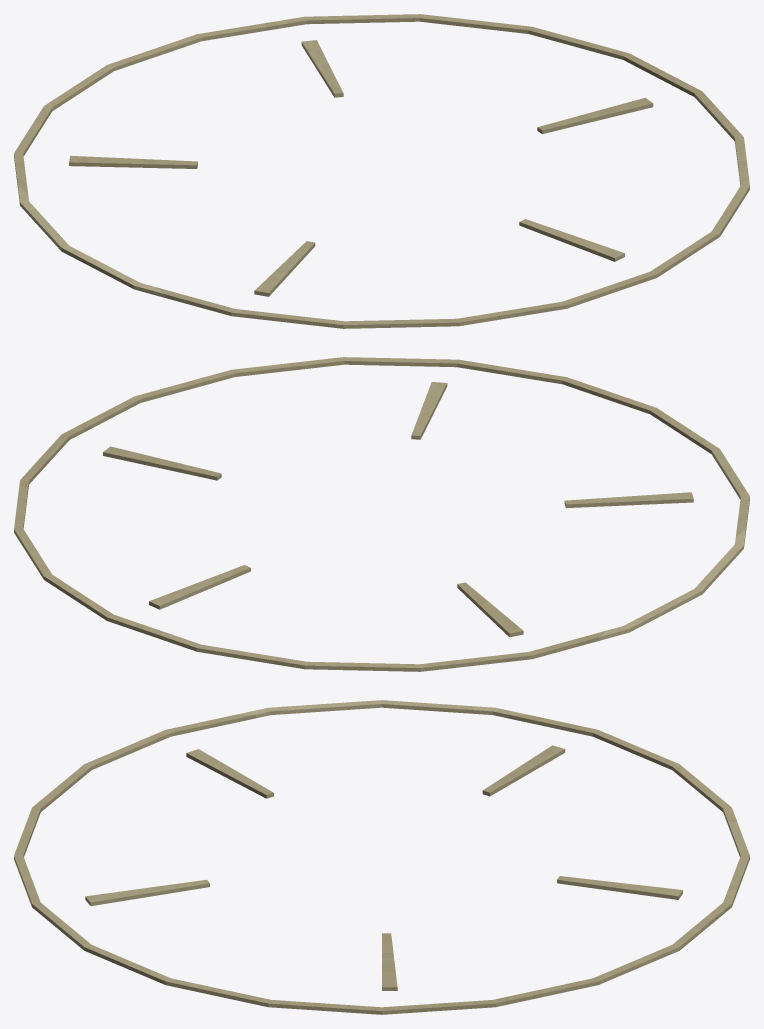
Rendered from level_castle_training_absolution.glb.
The picture shows the model from 3 angles, top to bottom: view 1: azimuth 30°, elevation 25°; view 2: azimuth 150°, elevation 25°; view 3: azimuth 270°, elevation 25°; orthographic projection.
Parts seen in each view (by area): view 1: Training floor inlay absolution; view 2: Training floor inlay absolution; view 3: Training floor inlay absolution.
Part boxes in pixels (bbox=[...]): Training floor inlay absolution: bbox=[14, 14, 749, 328]; Training floor inlay absolution: bbox=[14, 357, 749, 671]; Training floor inlay absolution: bbox=[14, 700, 749, 1014].
Size of the model in its own units: 1.44 by 0.008 by 1.44.
Materials: 1 (1 with a texture image).
